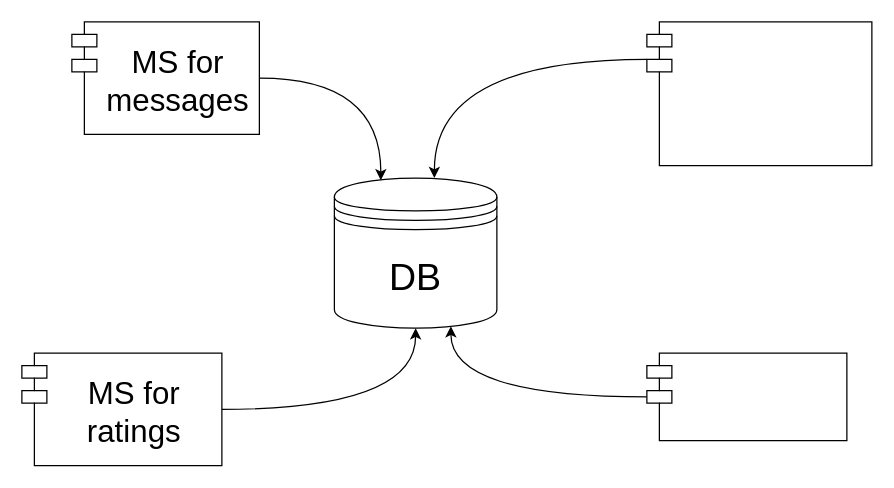
Image size: 894x488. Some labels were removed from this diagram. Each missing label, with the box of its shape:
MS for ads: (646, 352, 847, 441)
MS for users and agancies: (646, 21, 872, 166)
